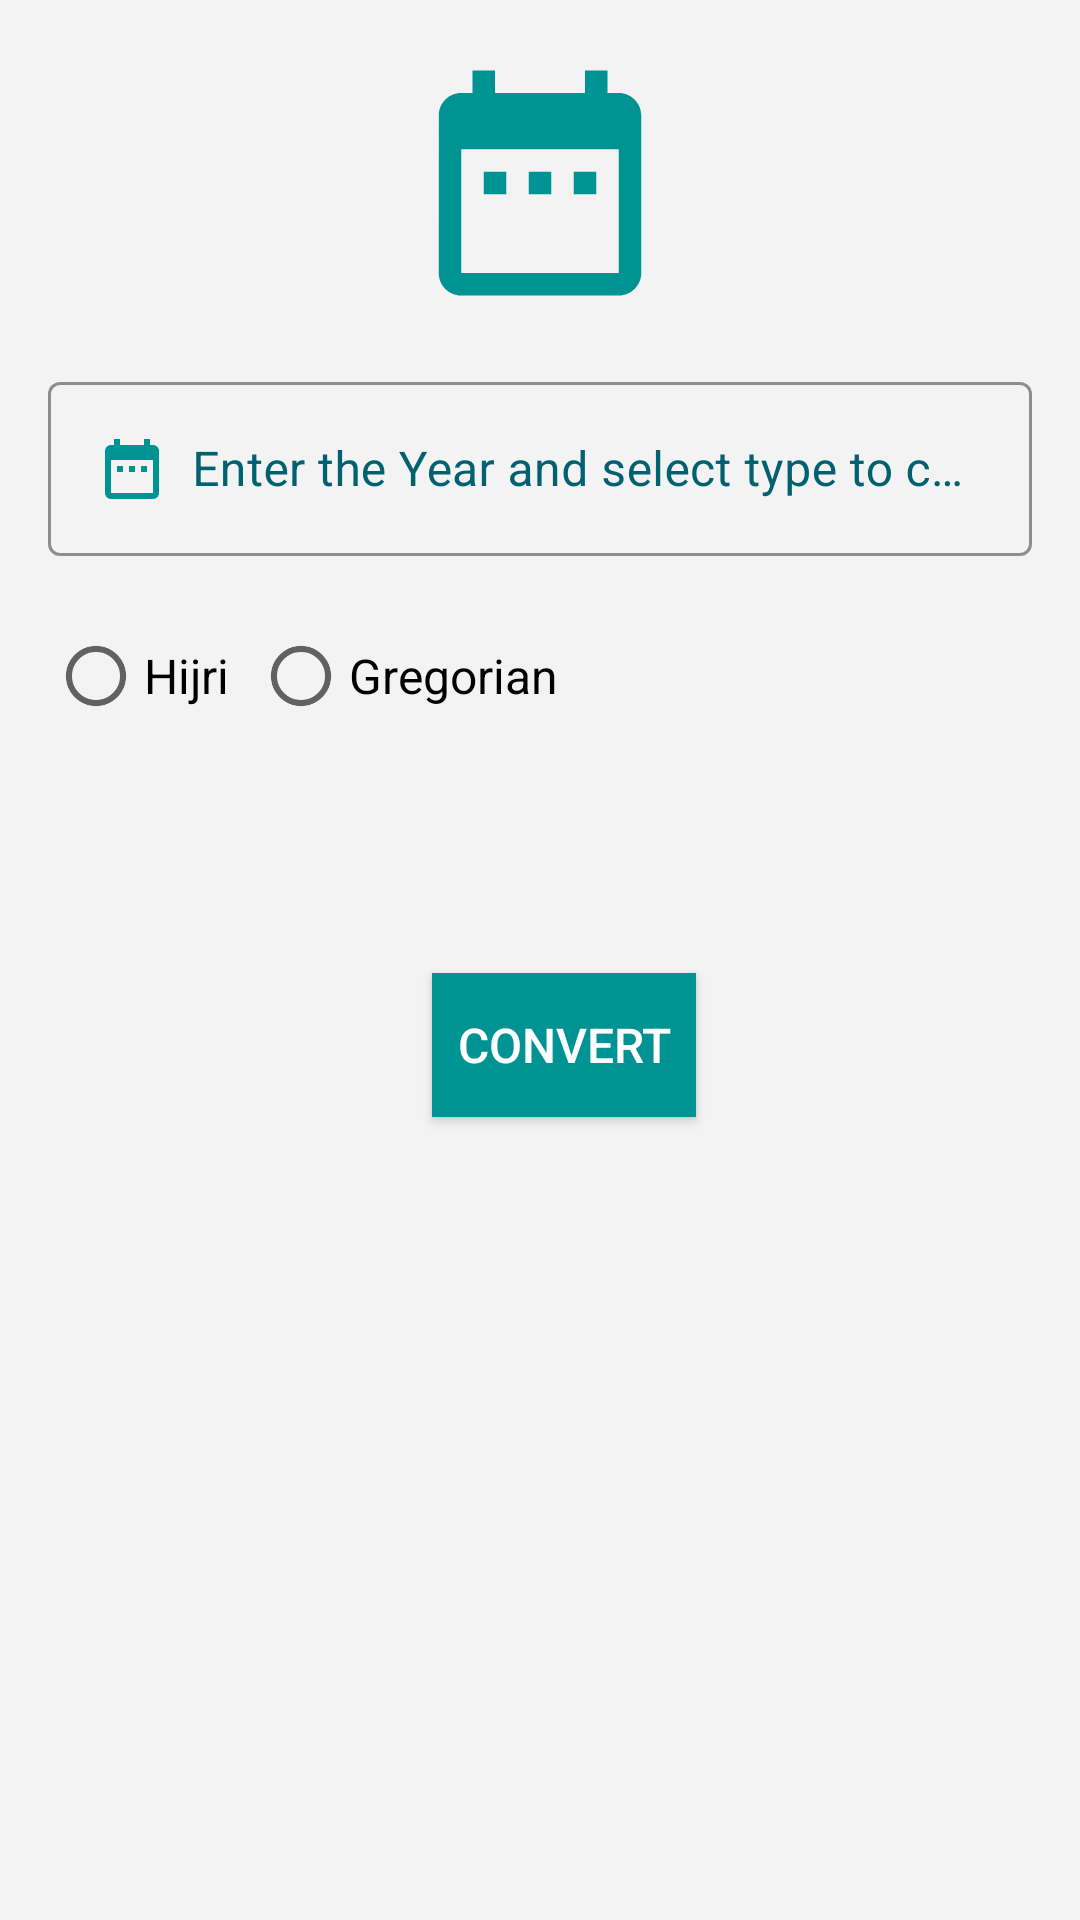

Point at icon controls on the screen. Image size 1080×1920, points as point (x, y).
date range: point (540, 183)
